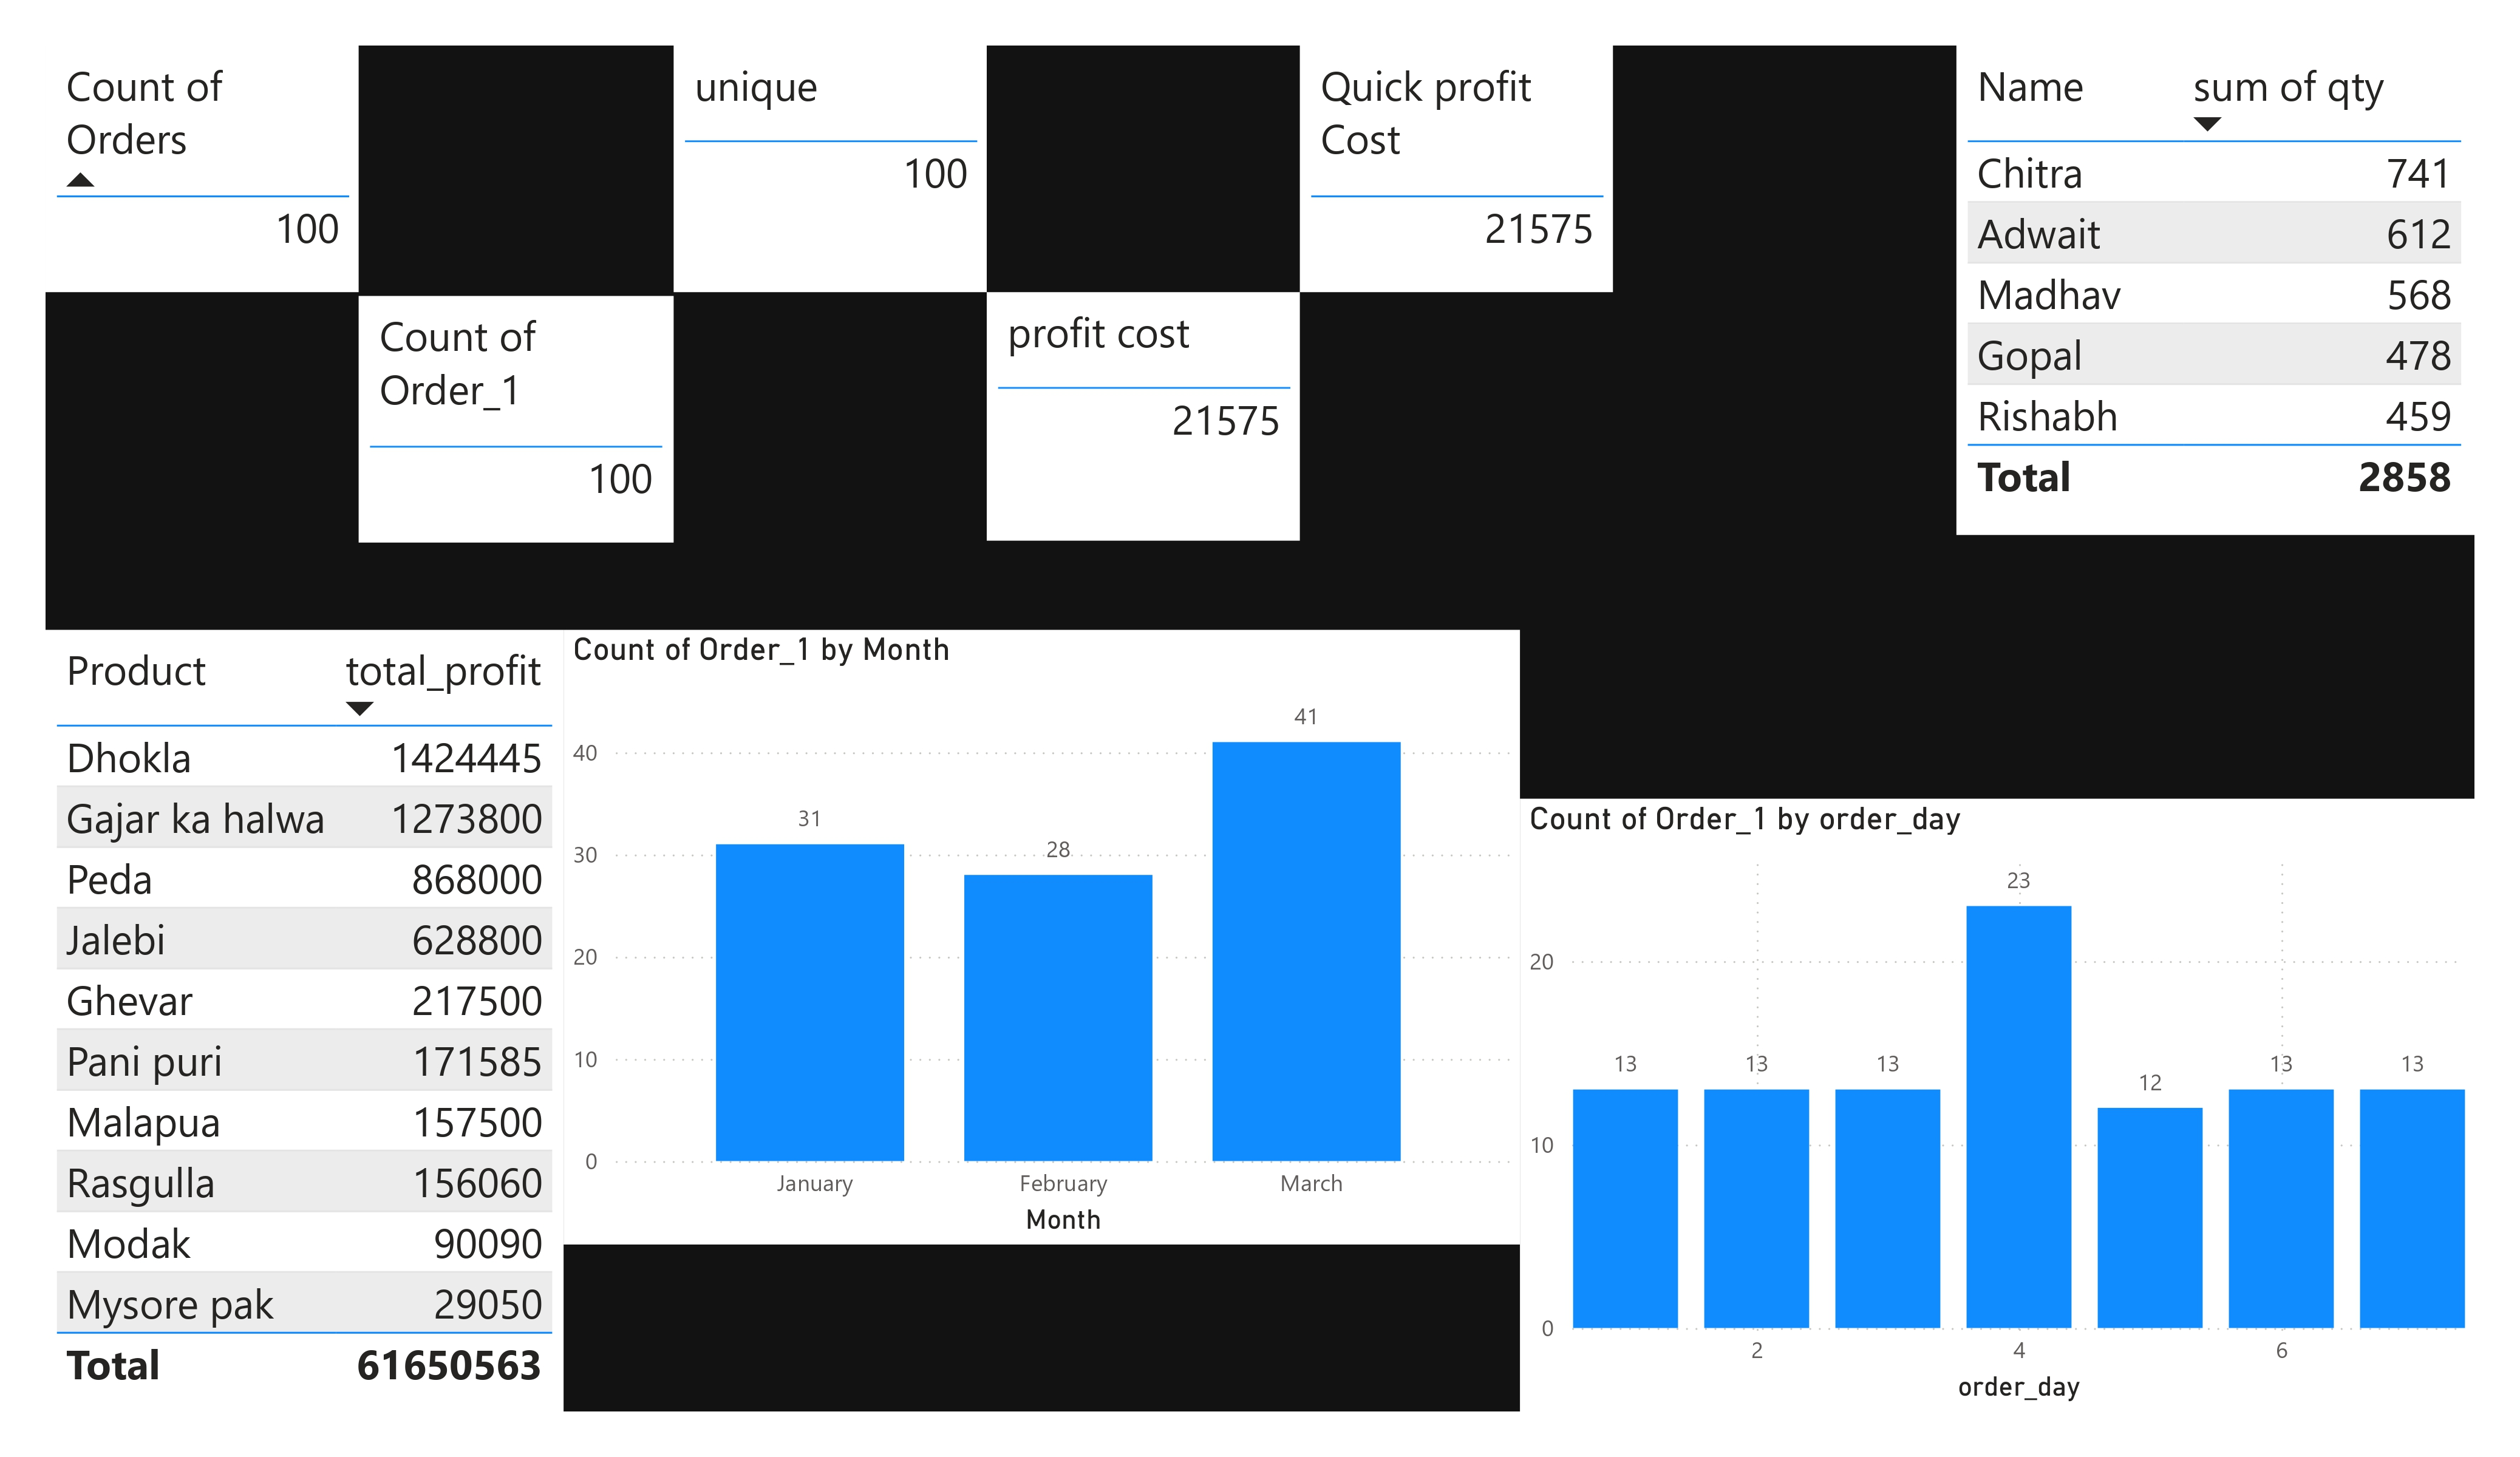

The dashboard page shown, as its layout file describes it:
{"tool":"powerbi","page":{"name":"DAX","canvas":[1280,720],"ordinal":0},"visuals":[{"type":"tableEx","fields":{"Values":["Orders.Count of Orders"]},"box":[0,0,165.3,130.3],"z":0},{"type":"tableEx","fields":{"Values":["Customers.Name","Orders.sum of qty"]},"box":[1007.4,0,272.7,258.2],"z":1000},{"type":"tableEx","fields":{"Values":["Orders.profit cost"]},"box":[495.8,130.3,165.3,130.3],"z":2000},{"type":"tableEx","fields":{"Values":["Orders.unique"]},"box":[330.6,0,165.3,130.3],"z":3000},{"type":"tableEx","fields":{"Values":["Orders.Count of Order_1"]},"box":[165.3,131.5,165.3,130.3],"z":4000},{"type":"tableEx","fields":{"Values":["Orders.Sum of Selling Price minus Sum of Product Cost"]},"box":[661.1,0,165.3,130.3],"z":5000},{"type":"tableEx","fields":{"Values":["Orders.Product","Orders.total_profit"]},"box":[0,308.3,273.3,411.7],"z":6000},{"type":"columnChart","fields":{"Category":["Customers.Order Date.Variation.Date Hierarchy.Month","Customers.Order Date.Variation.Date Hierarchy.Day"],"Y":["Orders.Count of Order_1"]},"box":[273.3,308.3,503.3,323.3],"z":7000},{"type":"columnChart","fields":{"Y":["Orders.Count of Order_1"],"Category":["Customers.order_day"]},"box":[776.7,396.7,503.3,323.3],"z":8000}]}

Visuals, with their boxes in screenshot pixels (x1, y1, x2, y2):
tableEx - Orders.Count of Orders: (left=52, top=46, right=362, bottom=290)
tableEx - Customers.Name x Orders.sum of qty: (left=1939, top=46, right=2450, bottom=529)
tableEx - Orders.profit cost: (left=981, top=290, right=1290, bottom=534)
tableEx - Orders.unique: (left=672, top=46, right=981, bottom=290)
tableEx - Orders.Count of Order_1: (left=362, top=292, right=672, bottom=536)
tableEx - Orders.Sum of Selling Price minus Sum of Product Cost: (left=1290, top=46, right=1600, bottom=290)
tableEx - Orders.Product x Orders.total_profit: (left=52, top=623, right=564, bottom=1394)
columnChart - Customers.Order Date.Variation.Date Hierarchy.Month x Customers.Order Date.Variation.Date Hierarchy.Day: (left=564, top=623, right=1507, bottom=1229)
columnChart - Orders.Count of Order_1 x Customers.order_day: (left=1507, top=789, right=2450, bottom=1394)
